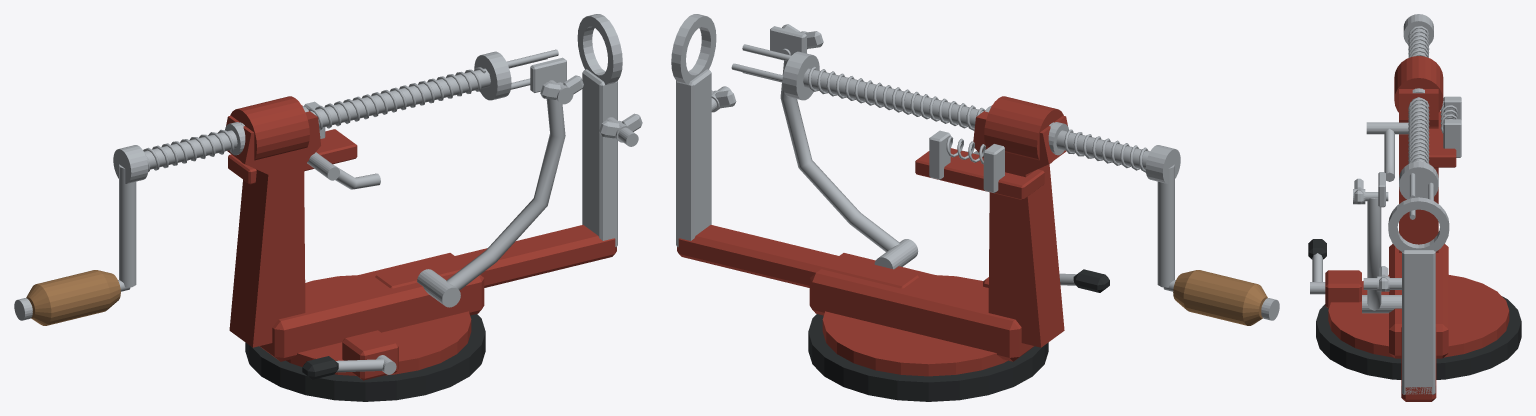
The model's file is A-NEW-20261026-APPLE-PEELER-001_LOD2_R3.fbx.
The picture shows the model from 3 angles, left to right: view 1: azimuth 30°, elevation 25°; view 2: azimuth 150°, elevation 25°; view 3: azimuth 270°, elevation 25°; orthographic projection. The views are drawn at different scales.
Parts seen in each view (by area): view 1: upright open cast frame, cast foot bridge, rubber suction foot, front support rail, upright coring bracket, suction upper cover, continuous spindle core, rounded wooden crank grip, curved peeler arm, spindle bearing housing, blunt open core ring, visible spindle thread.001 (+11 smaller); view 2: upright open cast frame, cast foot bridge, rubber suction foot, suction upper cover, front support rail, upright coring bracket, continuous spindle core, rounded wooden crank grip, spindle bearing housing, curved peeler arm, spring anchor bridge, blunt open core ring (+10 smaller); view 3: suction upper cover, upright coring bracket, rubber suction foot, cast foot bridge, upright open cast frame, blunt open core ring, spindle bearing housing, curved peeler arm, suction cam bracket, visible spindle thread.001, fork spindle hub, spring anchor bridge (+15 smaller).
Boxes of the visible parts, <box> form: upright open cast frame: <box>226,105,320,347</box>; cast foot bridge: <box>259,253,484,361</box>; rubber suction foot: <box>245,314,485,401</box>; front support rail: <box>375,225,616,288</box>; upright coring bracket: <box>582,69,617,247</box>; suction upper cover: <box>286,275,471,375</box>; continuous spindle core: <box>144,68,490,169</box>; rounded wooden crank grip: <box>26,270,120,325</box>; curved peeler arm: <box>446,99,565,290</box>; spindle bearing housing: <box>230,96,309,163</box>; blunt open core ring: <box>577,14,622,84</box>; visible spindle thread.001: <box>308,67,485,130</box>; upright open cast frame: <box>973,105,1067,347</box>; cast foot bridge: <box>809,253,1034,361</box>; rubber suction foot: <box>808,314,1048,401</box>; suction upper cover: <box>822,275,1007,376</box>; front support rail: <box>677,225,918,288</box>; upright coring bracket: <box>676,69,711,246</box>; continuous spindle core: <box>803,68,1149,169</box>; rounded wooden crank grip: <box>1173,270,1267,325</box>; spindle bearing housing: <box>984,96,1063,163</box>; curved peeler arm: <box>780,60,899,251</box>; spring anchor bridge: <box>915,148,1044,200</box>; blunt open core ring: <box>671,14,716,84</box>; suction upper cover: <box>1328,275,1509,357</box>; upright coring bracket: <box>1402,250,1435,394</box>; rubber suction foot: <box>1316,296,1521,379</box>; cast foot bridge: <box>1389,244,1448,358</box>; upright open cast frame: <box>1399,89,1438,252</box>; blunt open core ring: <box>1388,197,1449,251</box>; spindle bearing housing: <box>1394,56,1443,112</box>; curved peeler arm: <box>1367,198,1381,310</box>; suction cam bracket: <box>1325,270,1361,308</box>; visible spindle thread.001: <box>1408,98,1429,163</box>; fork spindle hub: <box>1399,161,1438,199</box>; spring anchor bridge: <box>1428,111,1456,167</box>.
Bounding box in the file's own units: 38.7 × 17 × 13.9.
